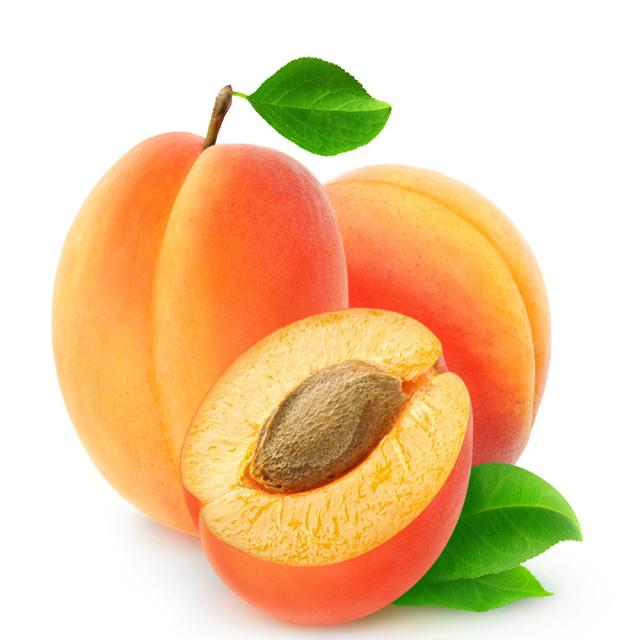Cekirdek: (250, 360, 407, 491)
Kayisi: (181, 310, 470, 565)
Yaprak: (422, 463, 582, 580), (247, 58, 391, 154)
